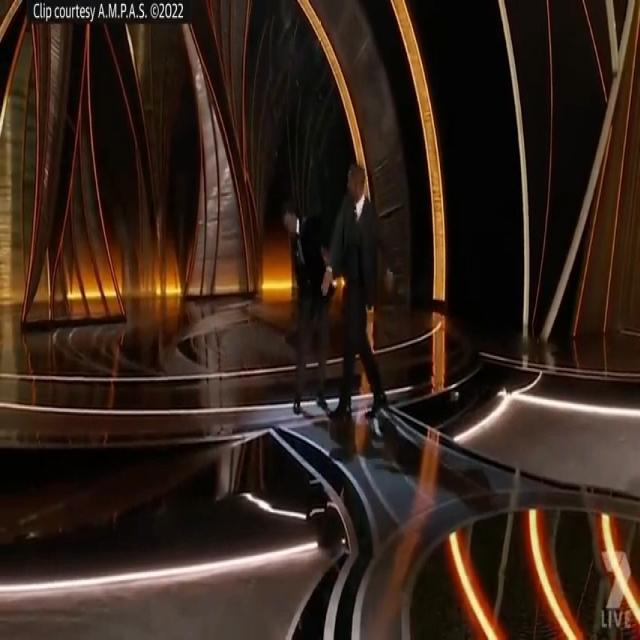fight: (262, 150, 400, 451)
